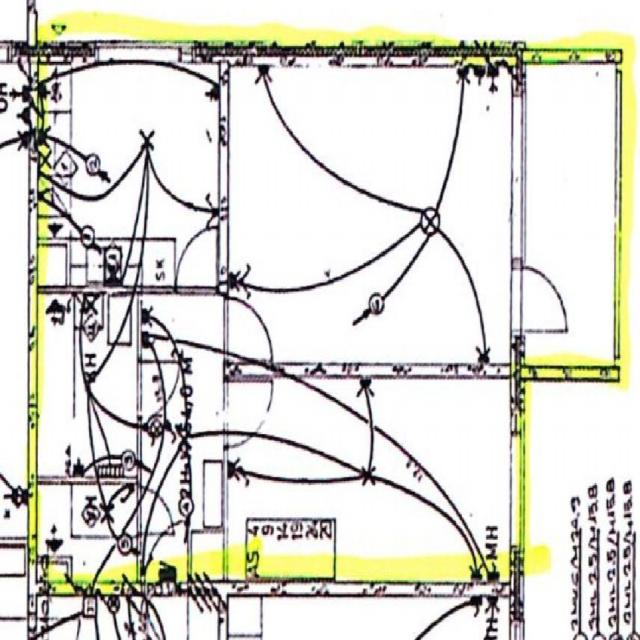door: (510, 268, 568, 330), (144, 521, 187, 596), (224, 382, 274, 446), (223, 297, 272, 360), (137, 361, 181, 418), (177, 230, 216, 292), (137, 488, 173, 534)
